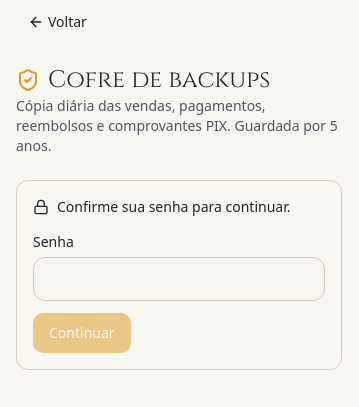
it: Backups re-authentication vs global 2FA prompt › does not open the global prompt nor unenroll the factor being verified
The width and height of the screenshot is (359, 407).
Later steps or results of the test are not shown.
Type "secret" into the password field labelled "Senha".
click(179, 279); type("secret")  # box [33, 257, 325, 301]
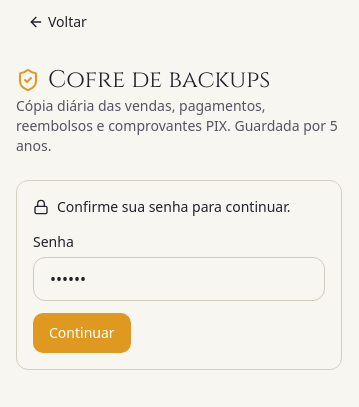
Click the button "Continuar".
click(82, 333)  # box [33, 313, 131, 353]
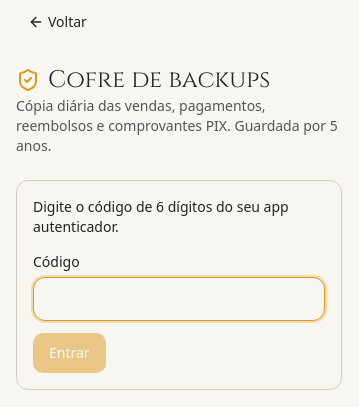
expect the field labelled "Código" is shown: met, box [33, 277, 325, 321]
